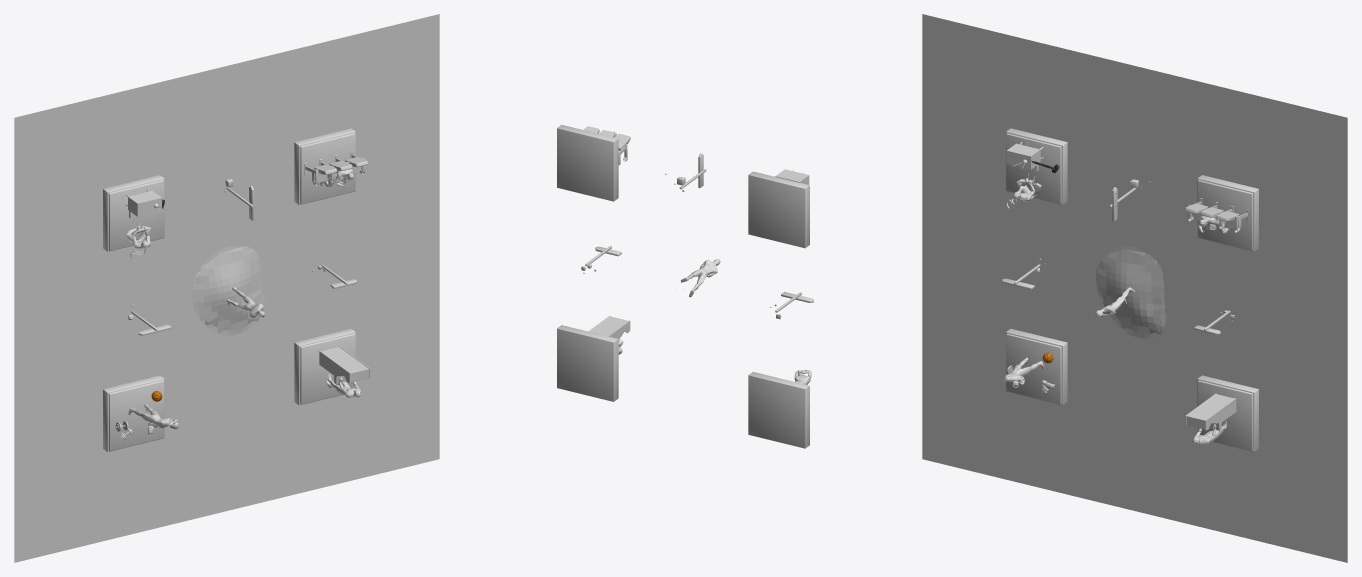
The picture shows the model from 3 angles, left to right: view 1: azimuth 30°, elevation 25°; view 2: azimuth 150°, elevation 25°; view 3: azimuth 330°, elevation 25°; orthographic projection.
Parts seen in each view (by area): view 1: floor.007, shadeBrown.01, shadeWhite.079, shadeWhite.007, shadeWhite.077, shadeWhite.080, shadeOrange_002, shadeOrange.056; view 2: shadeWhite.080, shadeWhite.077, shadeWhite.079, shadeWhite.007, shadeOrange_002; view 3: floor.007, shadeBrown.01, shadeWhite.079, shadeWhite.007, shadeWhite.077, shadeWhite.080, shadeOrange_002, shadeOrange.056.
Part boxes in pixels (x1,y1,x2,y2): floor.007: (14, 14, 439, 562); shadeBrown.01: (191, 245, 266, 335); shadeWhite.079: (103, 375, 164, 452); shadeWhite.007: (294, 128, 355, 204); shadeWhite.077: (103, 175, 164, 251); shadeWhite.080: (294, 328, 355, 405); shadeOrange_002: (319, 346, 369, 384); shadeOrange.056: (128, 191, 161, 216); shadeWhite.080: (557, 325, 618, 401); shadeWhite.077: (748, 171, 809, 248); shadeWhite.079: (748, 372, 809, 448); shadeWhite.007: (557, 124, 618, 201); shadeOrange_002: (588, 315, 630, 339); floor.007: (922, 14, 1347, 562); shadeBrown.01: (1096, 245, 1168, 338); shadeWhite.079: (1006, 328, 1067, 405); shadeWhite.007: (1197, 175, 1258, 251); shadeWhite.077: (1006, 128, 1067, 204); shadeWhite.080: (1197, 375, 1258, 452); shadeOrange_002: (1185, 393, 1236, 431); shadeOrange.056: (1006, 143, 1040, 169).
Bounding box in the file's own units: 40 × 40 × 6.24.
2 materials, 2 textured.
